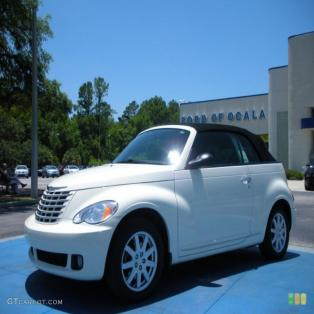Auto: (22, 122, 298, 304)
